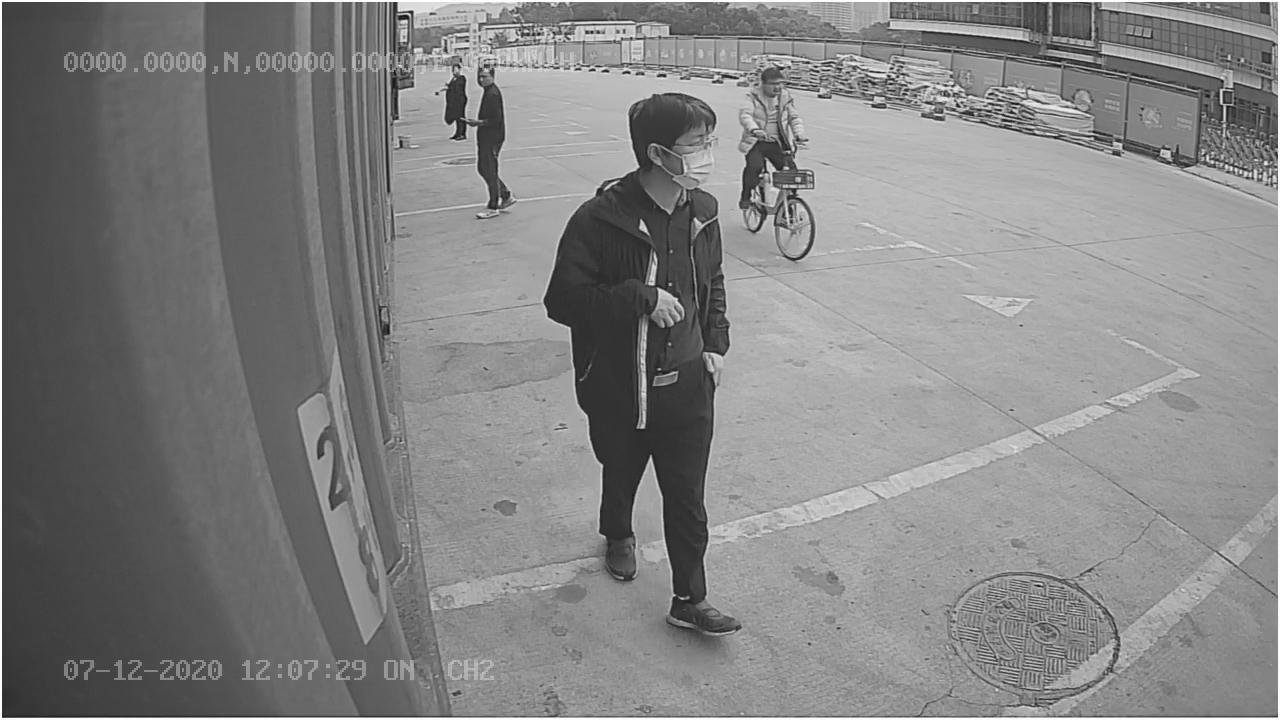person: (546, 87, 730, 645)
